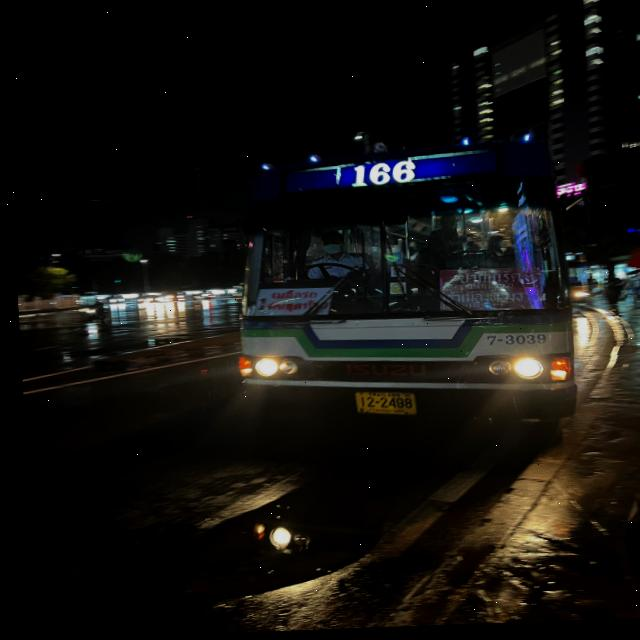BMTA-bus: (214, 128, 585, 443)
Bus-Line-Number: (346, 160, 419, 191)
Destination-Sign-Extra-Bus: (435, 268, 543, 318)
